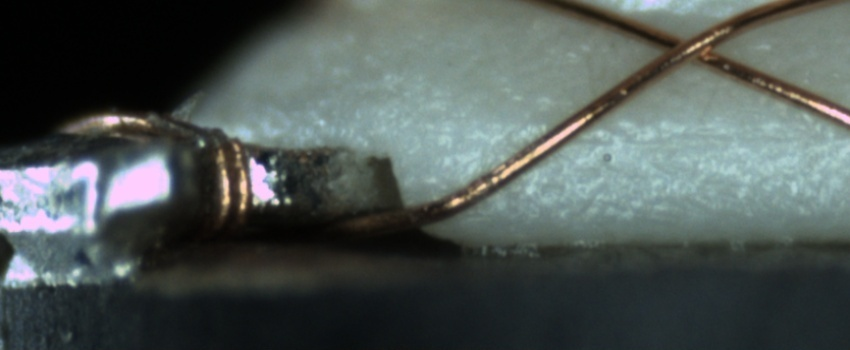CL: (646, 17, 741, 74)
DL: (552, 105, 849, 169)
TE: (54, 107, 258, 240)
